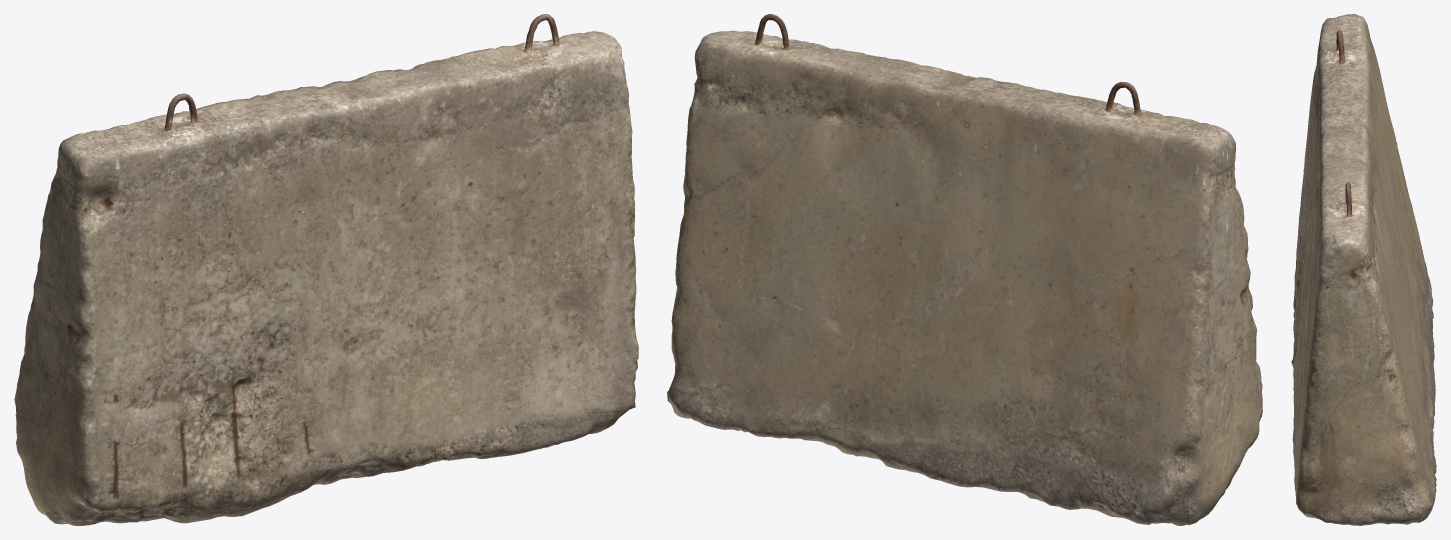
Rendered from concrete_road_barrier_02_1k.medium.glb.
3 renders of one model, left to right at view 1: azimuth 30°, elevation 25°; view 2: azimuth 150°, elevation 25°; view 3: azimuth 270°, elevation 25°, orthographic. The views are drawn at different scales.
Parts seen in each view (by area): view 1: concrete_road_barrier_02; view 2: concrete_road_barrier_02; view 3: concrete_road_barrier_02.
Boxes of the visible parts, left/top/right/bottom form: concrete_road_barrier_02: left=14, top=14, right=638, bottom=525; concrete_road_barrier_02: left=667, top=14, right=1262, bottom=525; concrete_road_barrier_02: left=1291, top=14, right=1436, bottom=525.
Size of the model in its own units: 1.57 by 1.11 by 0.4422.
1 material, 1 textured.
